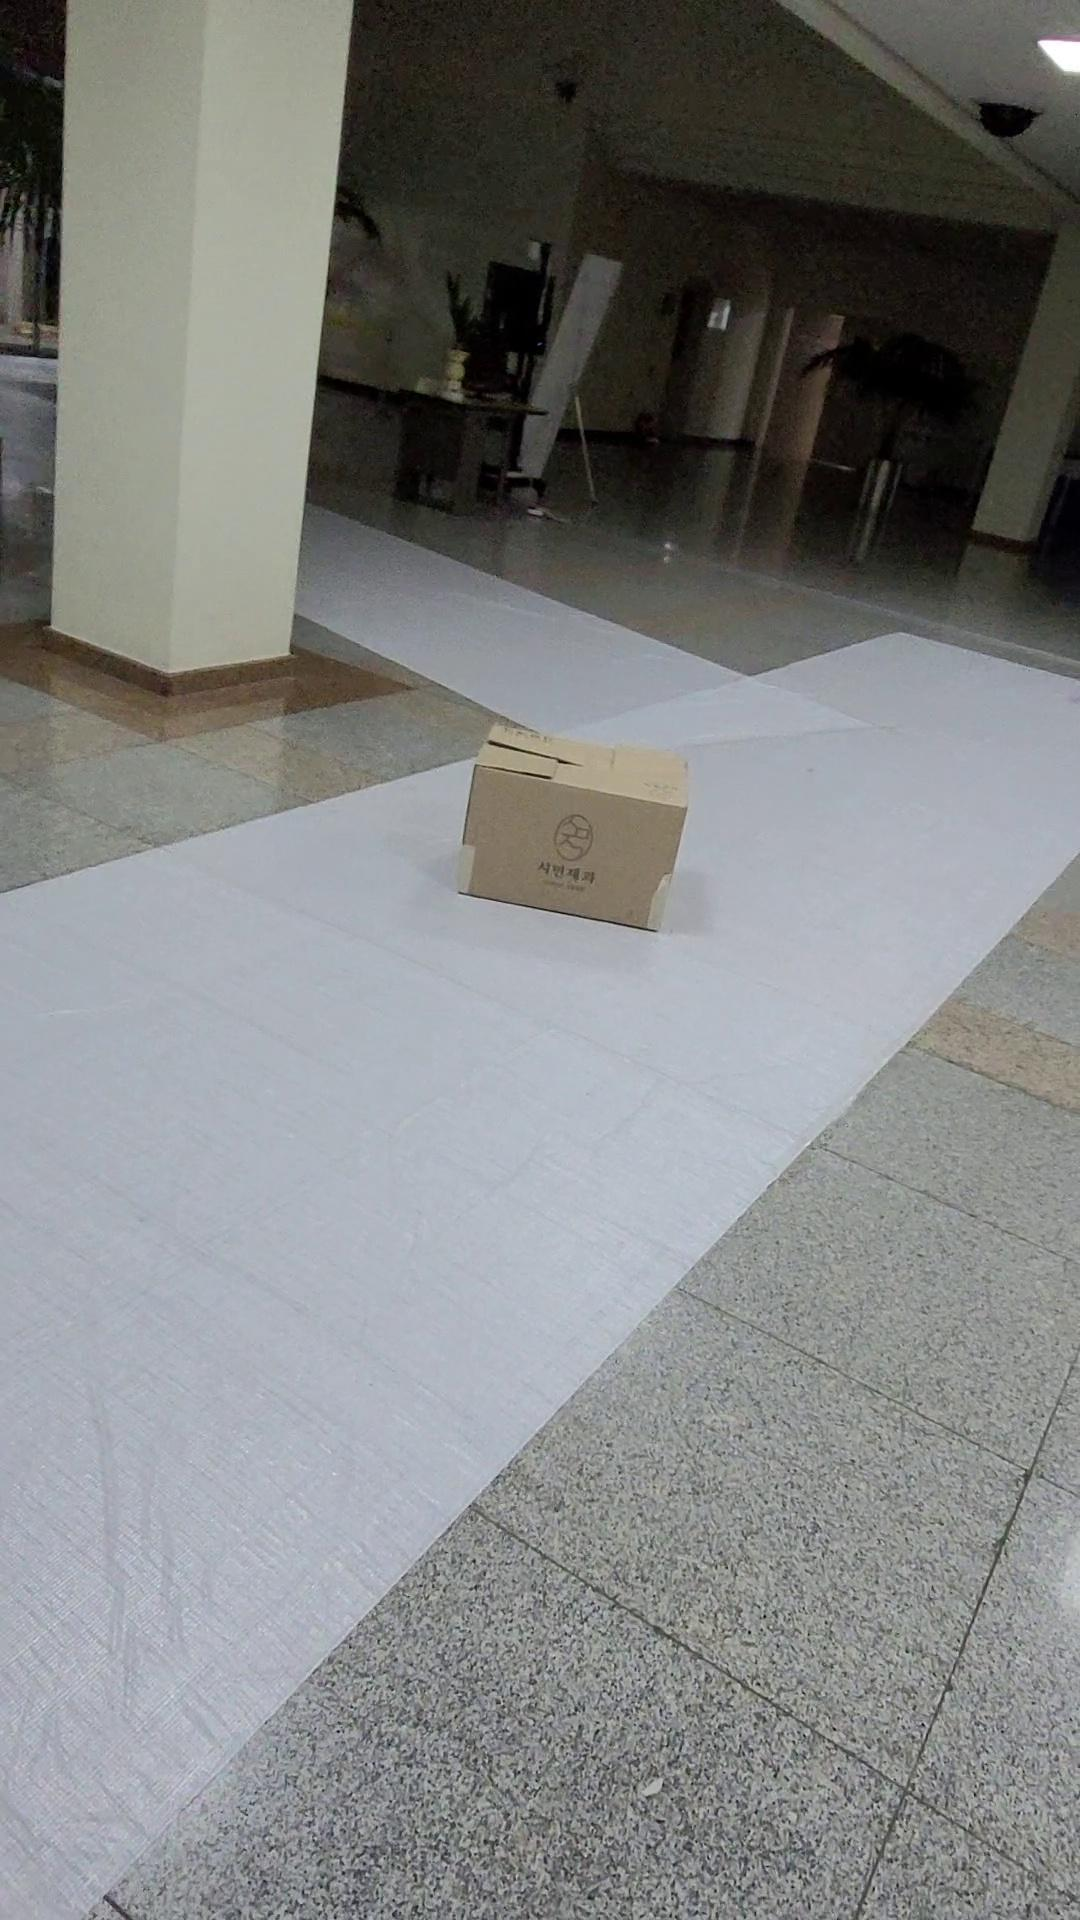Box: (431, 720, 712, 940)
